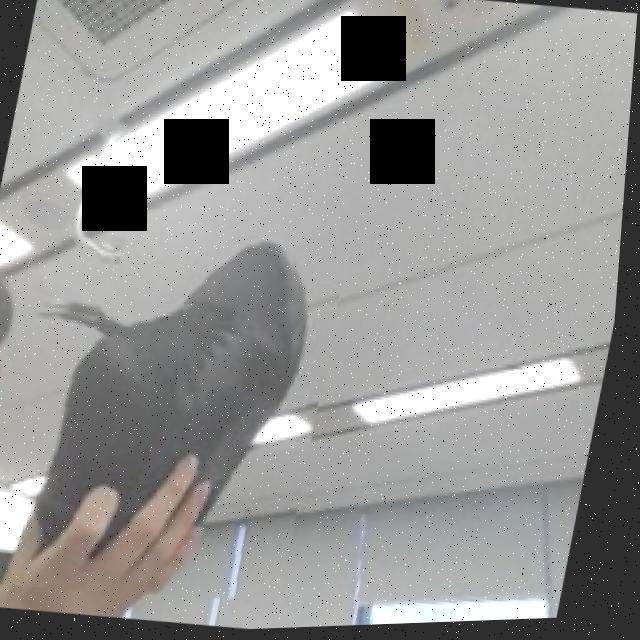shoe: (0, 192, 358, 620)
